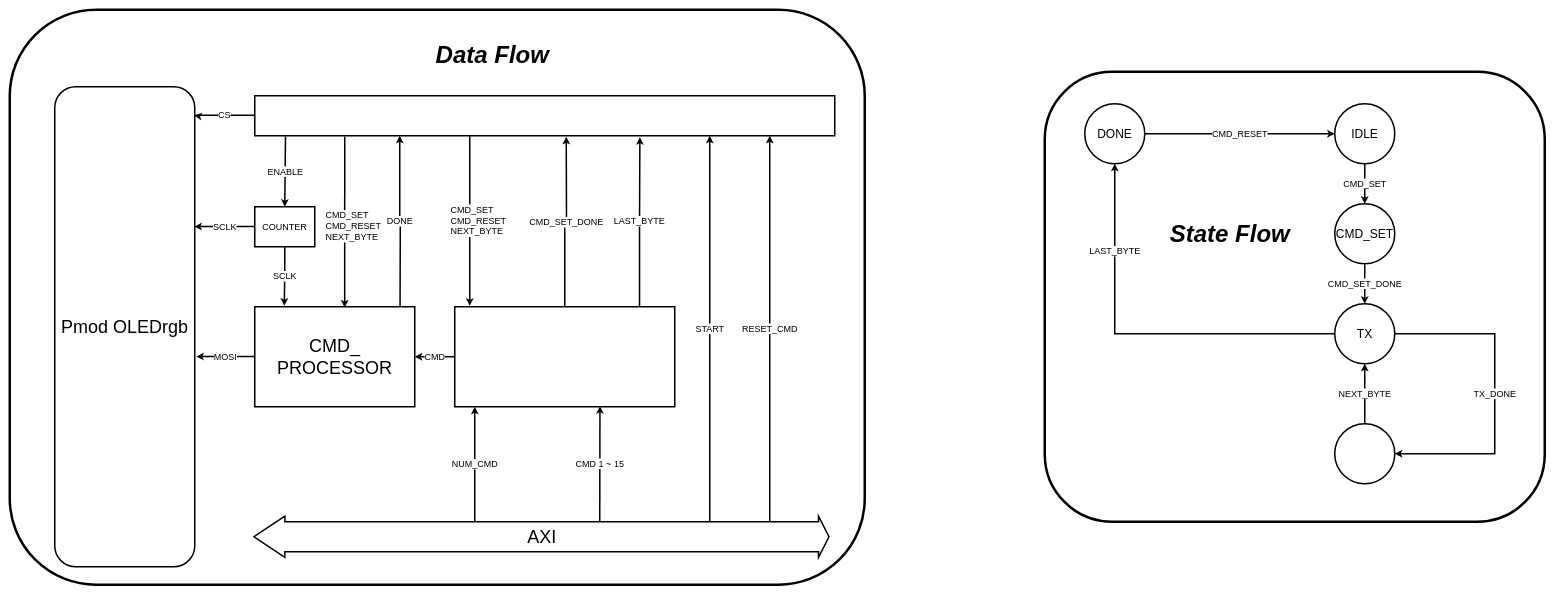
Some shapes in this 1555 by 595 pixel diagram are drawn without their labels. The shapes that lost their labels are listed below. From the top down, each one's box as (x1, y1, x2, y2) in pixels, then its label:
(254, 95, 835, 136): CONTROL
(454, 306, 675, 407): CMD_BUFFER
(1334, 423, 1395, 484): NEXT_ BYTE
